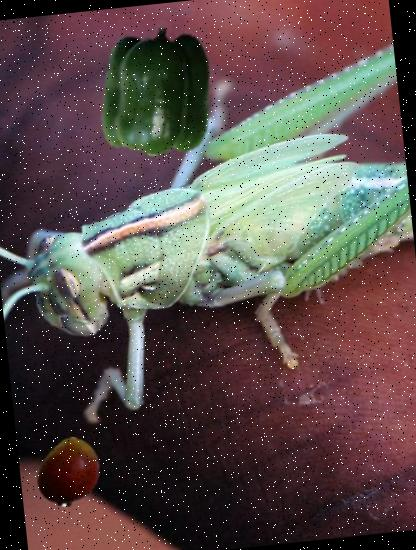Mango: (30, 433, 108, 511)
Pepper: (87, 22, 228, 163)
